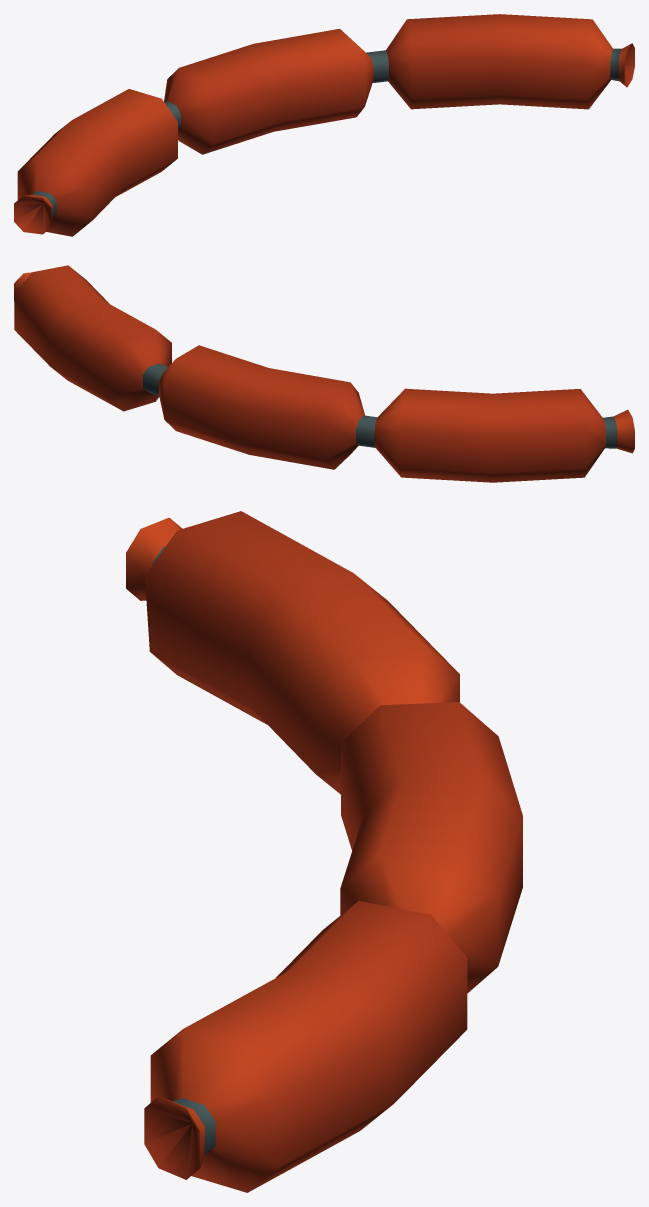
Rendered from sausage_chain.fbx.
The picture shows the model from 3 angles, top to bottom: view 1: azimuth 30°, elevation 25°; view 2: azimuth 150°, elevation 25°; view 3: azimuth 270°, elevation 25°; orthographic projection. The views are drawn at different scales.
Parts seen in each view (by area): view 1: sausage_chain; view 2: sausage_chain; view 3: sausage_chain.
Part boxes in pixels (x1=…): sausage_chain: x1=14, y1=14, x2=634, y2=236; sausage_chain: x1=14, y1=265, x2=634, y2=482; sausage_chain: x1=126, y1=511, x2=522, y2=1192.
Size of the model in its own units: 129 by 14.38 by 35.8.
